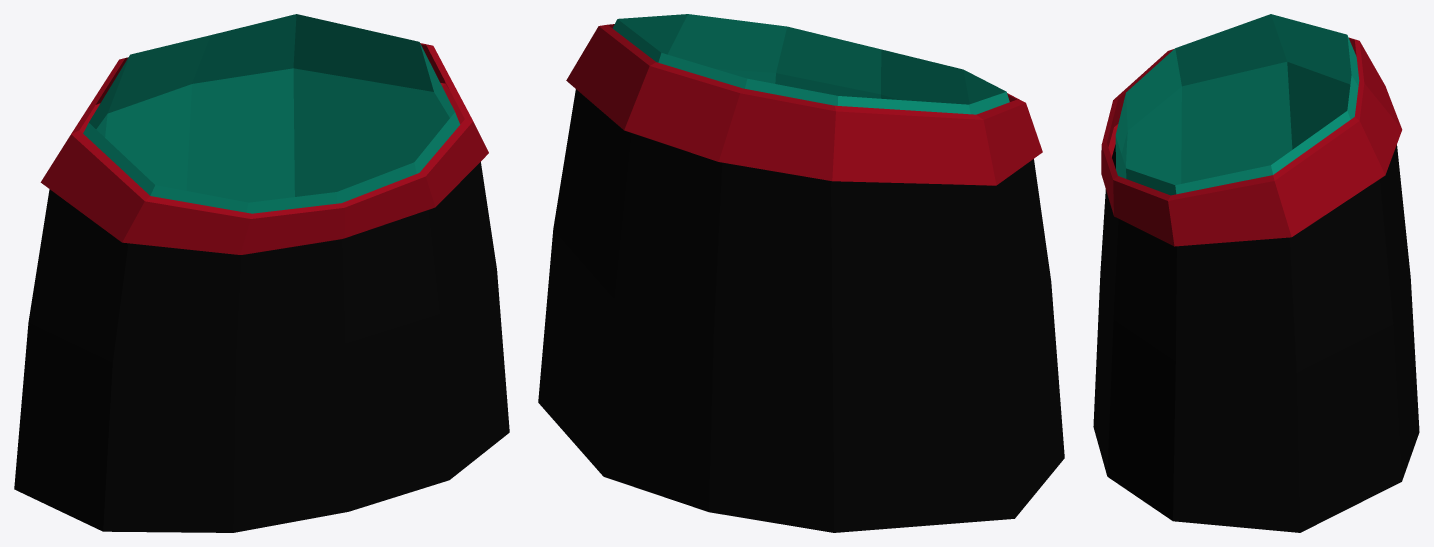
File: SpaSkirt2.fbx
3 views of the same model, side by side, from view 1: azimuth 30°, elevation 25°; view 2: azimuth 150°, elevation 25°; view 3: azimuth 270°, elevation 25° (orthographic). The views are drawn at different scales.
Parts seen in each view (by area): view 1: SpaSkir.002; view 2: SpaSkir.002; view 3: SpaSkir.002.
Part boxes in pixels (x1,y1,x2,y2): SpaSkir.002: (14,14,509,532); SpaSkir.002: (538,14,1064,532); SpaSkir.002: (1093,14,1419,532).
Bounding box in the file's own units: 46.22 × 37.8 × 31.06.
